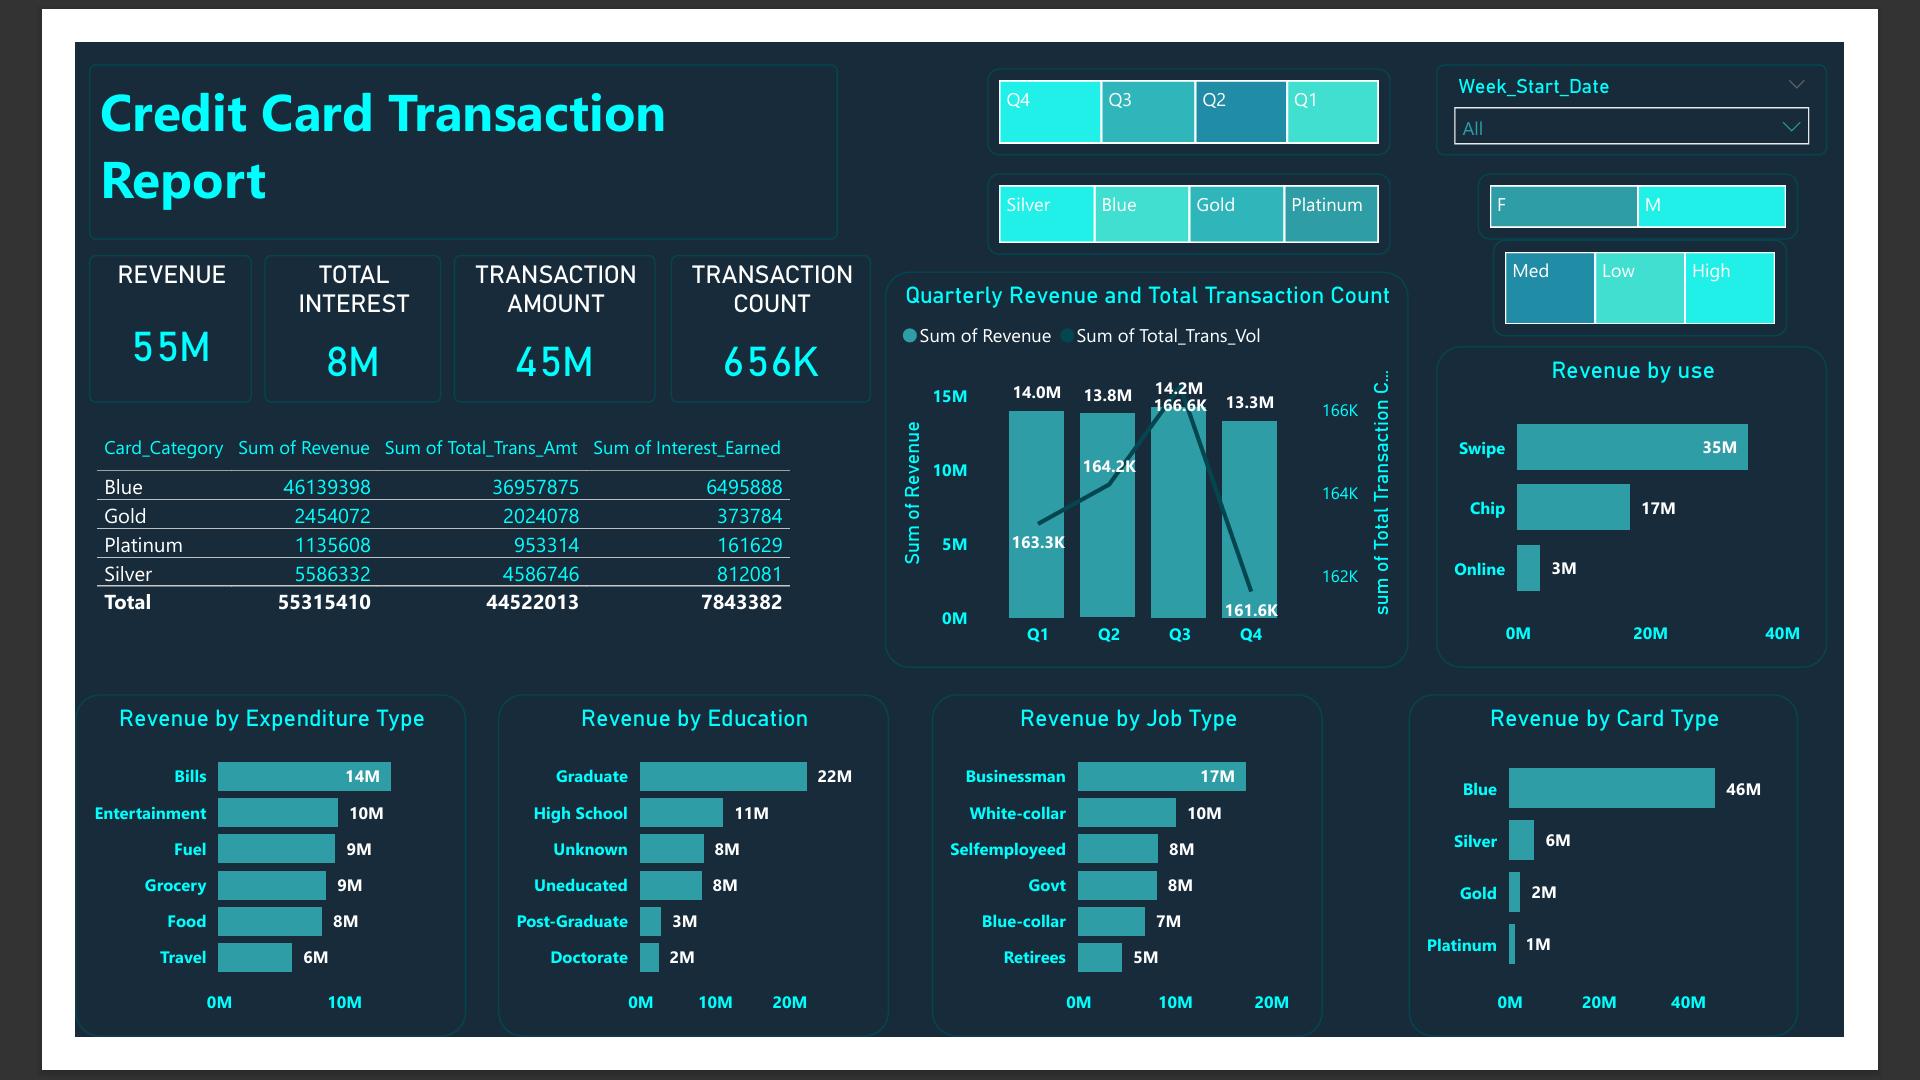

What the dashboard file says about the page in this screenshot:
{"tool":"powerbi","page":{"name":"CC Transaction","canvas":[1280,720],"ordinal":1},"visuals":[{"type":"textbox","box":[9.6,16.5,542,126.2],"z":0},{"type":"lineStackedColumnComboChart","title":"Quarterly Revenue and Total Transaction Count","fields":{"Category":["credit_card.Qtr"],"Y":["Sum(credit_card.Revenue)"],"Y2":["Sum(credit_card.Total_Trans_Vol)"]},"box":[585.9,166,378.7,286.8],"z":1000},{"type":"barChart","title":"Revenue by Expenditure Type","fields":{"Y":["Sum(credit_card.Revenue)"],"Category":["credit_card.Exp Type"]},"box":[0,472,282.7,248.4],"z":2000},{"type":"barChart","title":"Revenue by Education","fields":{"Y":["Sum(credit_card.Revenue)"],"Category":["customer.Education_Level"]},"box":[317.3,471.7,282.3,248.5],"z":3000},{"type":"barChart","title":"Revenue by Job Type","fields":{"Y":["Sum(credit_card.Revenue)"],"Category":["customer.Customer_Job"]},"box":[634.6,471.7,282.3,248.5],"z":4000},{"type":"barChart","title":"Revenue by Card Type","fields":{"Y":["Sum(credit_card.Revenue)"],"Category":["credit_card.Card_Category"]},"box":[964.7,472,282.7,248.4],"z":5000},{"type":"donutChart","title":"Revenue by use","fields":{"Category":["credit_card.Use Chip"],"Y":["Sum(credit_card.Revenue)"]},"box":[985.7,220.8,282.3,232.8],"z":6000},{"type":"tableEx","fields":{"Values":["credit_card.Card_Category","Sum(credit_card.Revenue)","Sum(credit_card.Total_Trans_Amt)","Sum(credit_card.Interest_Earned)"]},"box":[9.6,278.6,529.7,161.9],"z":7000},{"type":"card","title":"REVENUE","fields":{"Values":["Sum(credit_card.Revenue)"]},"box":[9.6,153.7,118,107],"z":8000},{"type":"card","title":"TRANSACTION AMOUNT","fields":{"Values":["Sum(credit_card.Total_Trans_Amt)"]},"box":[274.4,153.7,145.5,107],"z":9000},{"type":"card","title":"TOTAL INTEREST","fields":{"Values":["Sum(credit_card.Interest_Earned)"]},"box":[137.2,153.7,127.6,107],"z":10000},{"type":"card","title":"TRANSACTION COUNT","fields":{"Values":["Sum(credit_card.Total_Trans_Vol)"]},"box":[430.9,153.7,145.5,107],"z":11000},{"type":"slicer","fields":{"Values":["credit_card.Week_Start_Date"]},"box":[985.3,16.5,282.7,65.9],"z":12000},{"type":"treemap","fields":{"Group":["credit_card.Qtr"],"Values":["Avg(customer.Client_Num)"]},"box":[659.9,20.5,292,62.7],"z":13000},{"type":"treemap","fields":{"Group":["customer.Gender"],"Values":["Avg(customer.Client_Num)"]},"box":[1015.4,94.7,231.9,48],"z":14000},{"type":"treemap","fields":{"Group":["customer.Income Group"],"Values":["Avg(customer.Client_Num)"]},"box":[1026.4,142.7,212.7,70],"z":15000},{"type":"treemap","fields":{"Group":["credit_card.Card_Category"],"Values":["Avg(credit_card.Client_Num)"]},"box":[660,94.7,292.3,59],"z":16000}]}

Visuals, with their boxes in screenshot pixels (x1, y1, x2, y2), scaled from the page's 1280x720 canvas onto the 1920x1080 screenshot:
textbox: [x1=14, y1=25, x2=827, y2=214]
"Quarterly Revenue and Total Transaction Count" lineStackedColumnComboChart: [x1=879, y1=249, x2=1447, y2=679]
"Revenue by Expenditure Type" barChart: [x1=0, y1=708, x2=424, y2=1079]
"Revenue by Education" barChart: [x1=476, y1=708, x2=899, y2=1079]
"Revenue by Job Type" barChart: [x1=952, y1=708, x2=1375, y2=1079]
"Revenue by Card Type" barChart: [x1=1447, y1=708, x2=1871, y2=1079]
"Revenue by use" donutChart: [x1=1479, y1=331, x2=1902, y2=680]
tableEx - credit_card.Card_Category x Sum(credit_card.Revenue): [x1=14, y1=418, x2=809, y2=661]
"REVENUE" card: [x1=14, y1=231, x2=191, y2=391]
"TRANSACTION AMOUNT" card: [x1=412, y1=231, x2=630, y2=391]
"TOTAL INTEREST" card: [x1=206, y1=231, x2=397, y2=391]
"TRANSACTION COUNT" card: [x1=646, y1=231, x2=865, y2=391]
slicer - credit_card.Week_Start_Date: [x1=1478, y1=25, x2=1902, y2=124]
treemap - credit_card.Qtr x Avg(customer.Client_Num): [x1=990, y1=31, x2=1428, y2=125]
treemap - customer.Gender x Avg(customer.Client_Num): [x1=1523, y1=142, x2=1871, y2=214]
treemap - customer.Income Group x Avg(customer.Client_Num): [x1=1540, y1=214, x2=1859, y2=319]
treemap - credit_card.Card_Category x Avg(credit_card.Client_Num): [x1=990, y1=142, x2=1428, y2=231]
